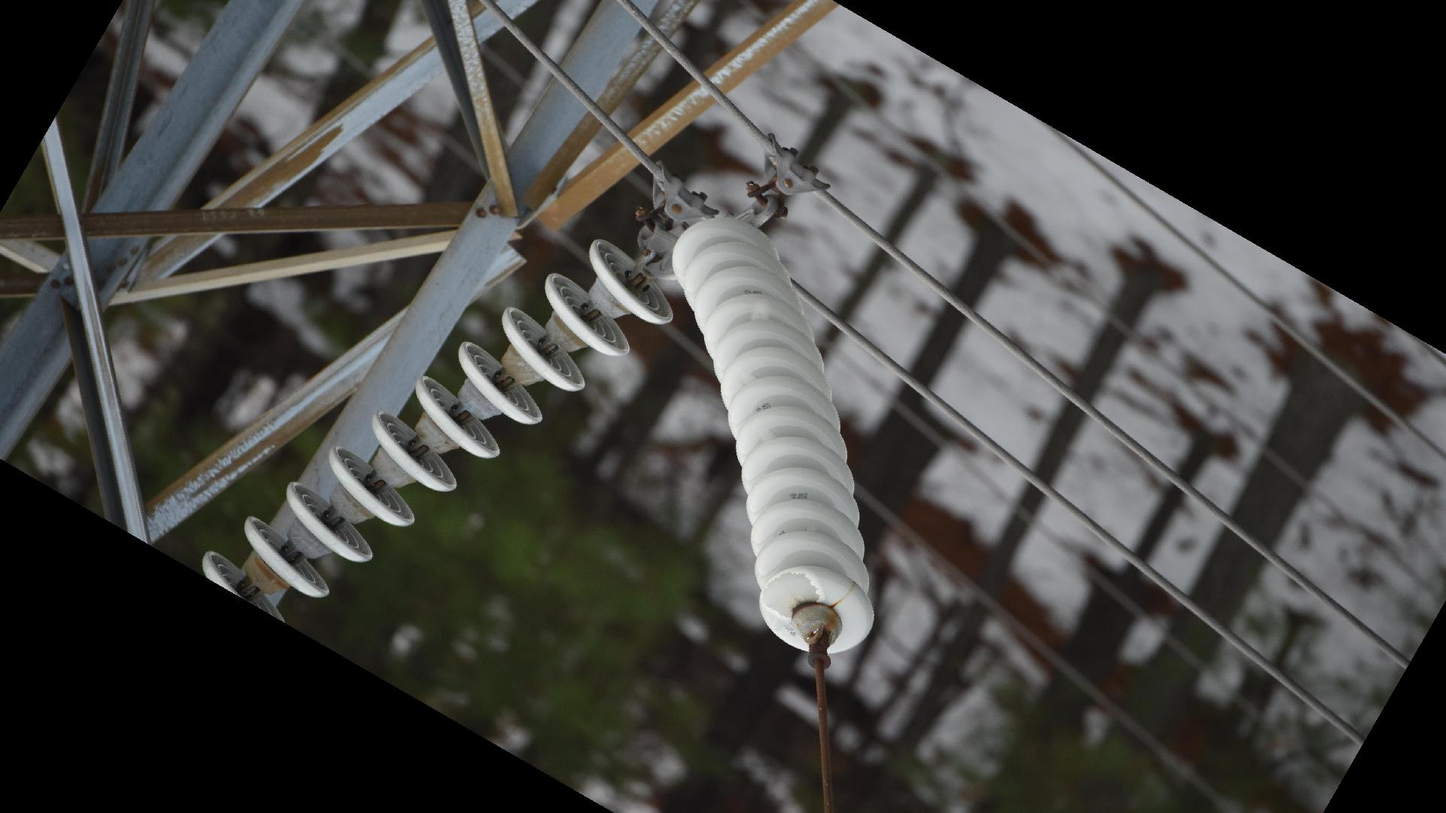insulator: (198, 234, 679, 638), (666, 211, 884, 659)
insulator_flashover: (760, 568, 824, 619)
